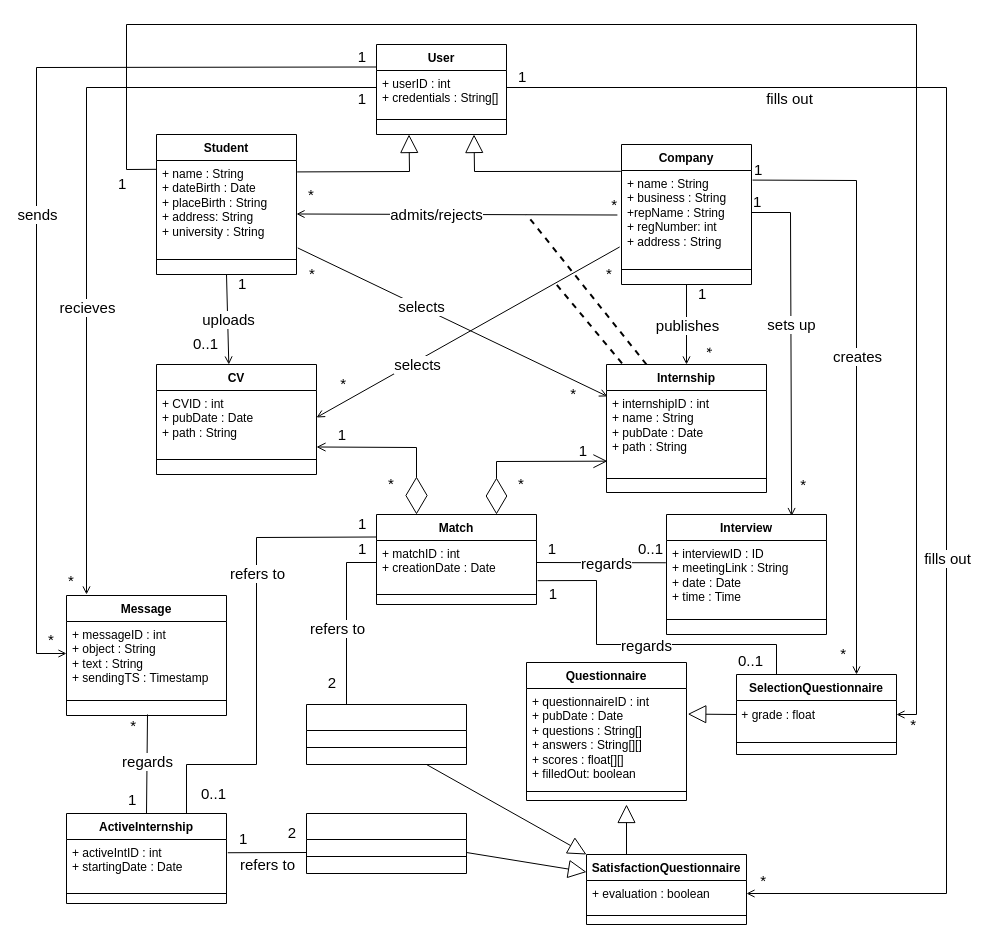
The diagram is 988 pixels wide and 942 high, and some of its shapes have lost their labels. The shapes that lost their labels are listed below. From the top down, each one's centre as x and y in pixels, then its label:
At point 386,734: "MatchingQuestionnaire".
At point 386,843: "InternshipQuestionnaire".
